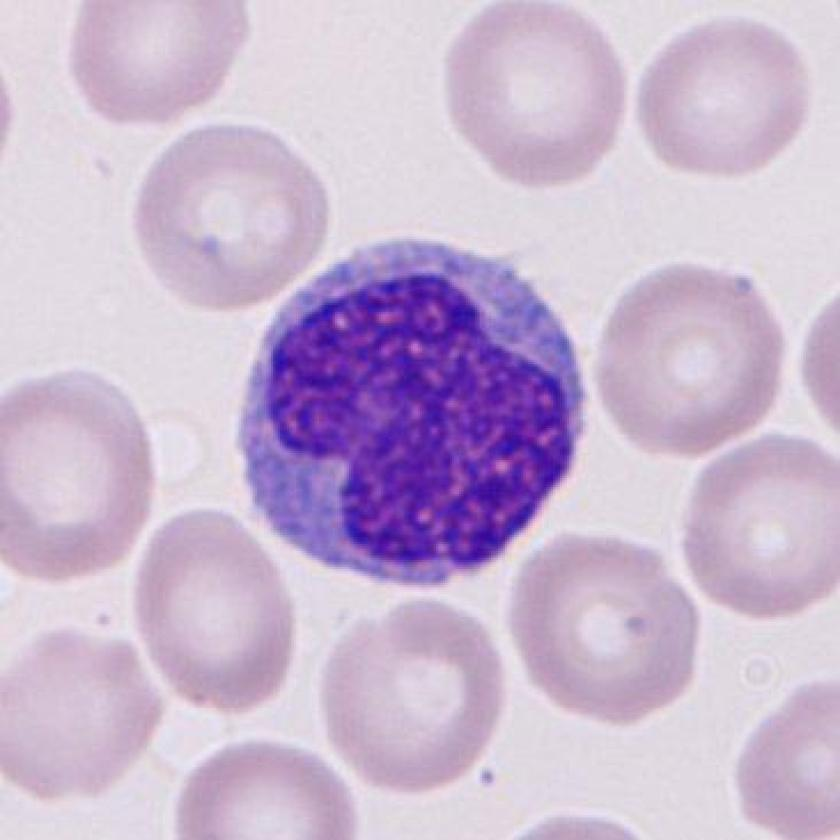monocyte: (217, 226, 616, 602)
